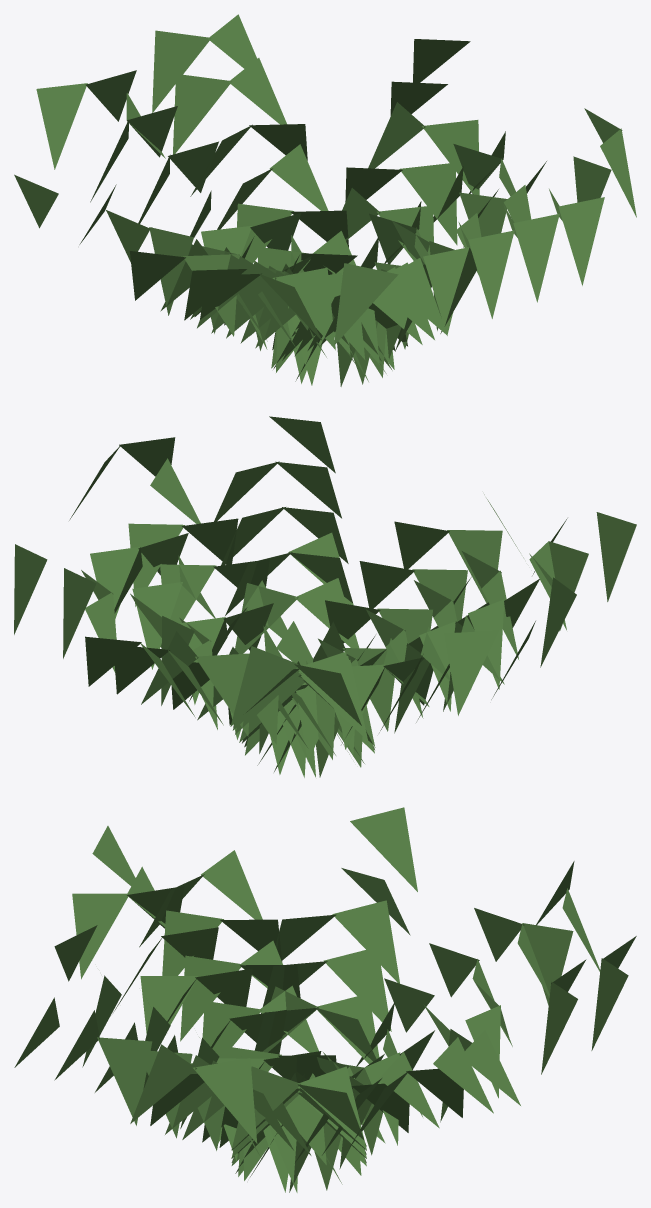
Rendered from vegetation-fern.lod2.glb.
3 views of the same model, one above another, from view 1: azimuth 30°, elevation 25°; view 2: azimuth 150°, elevation 25°; view 3: azimuth 270°, elevation 25° (orthographic). The views are drawn at different scales.
Visible parts, largest first — view 1: vegetation-fern__body; view 2: vegetation-fern__body; view 3: vegetation-fern__body.
Part boxes in pixels (box(x1,y1,x2,y2)): vegetation-fern__body: box(14, 14, 636, 386); vegetation-fern__body: box(14, 416, 636, 777); vegetation-fern__body: box(14, 807, 636, 1192).
Bounding box in the file's own units: 1.41 × 0.5446 × 1.39.
